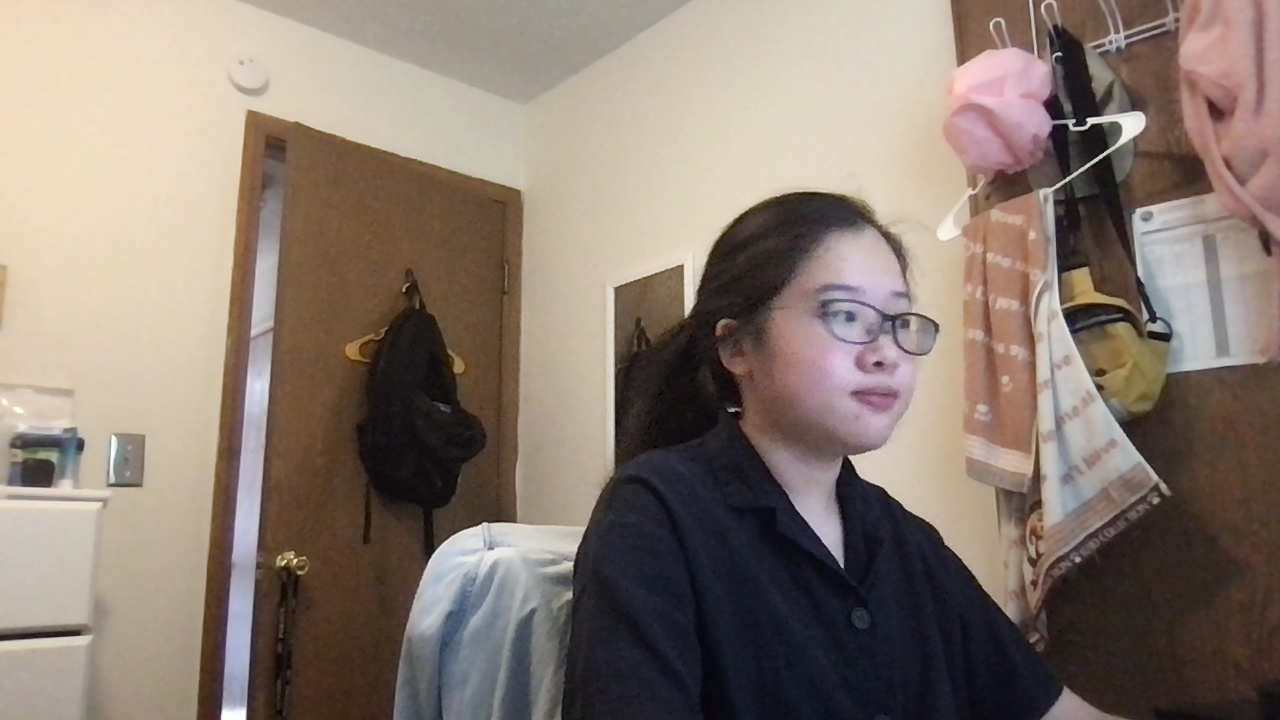NoMask: (744, 341, 927, 439)
